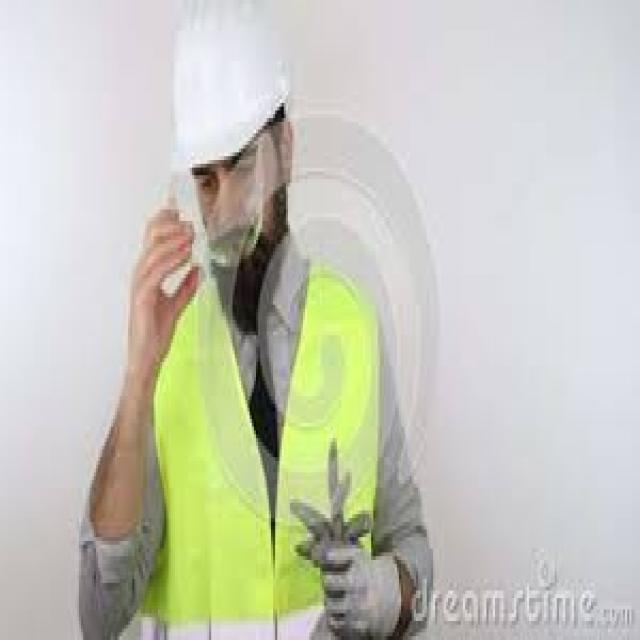Reflective-Jacket: (126, 252, 403, 632)
Safety-Helmet: (164, 8, 299, 186)
